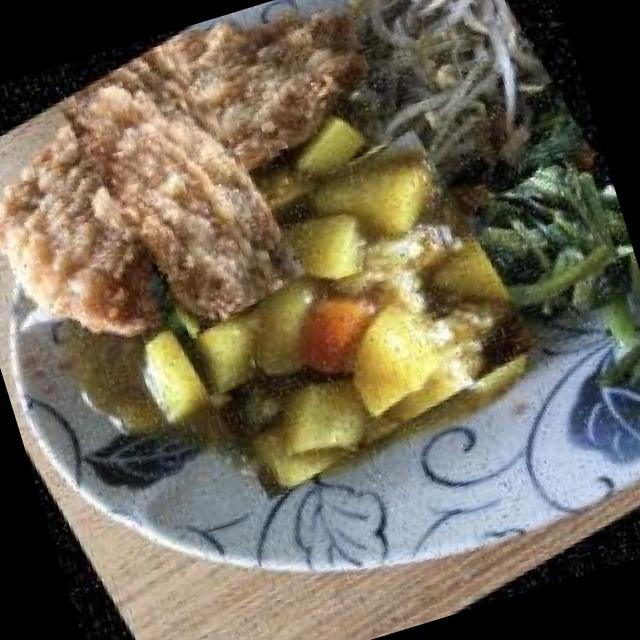curry: (123, 111, 557, 517)
fried_chicken: (0, 1, 343, 333)
mung_bean_sprouts: (336, 0, 563, 167)
water_spinach: (459, 126, 640, 330)
